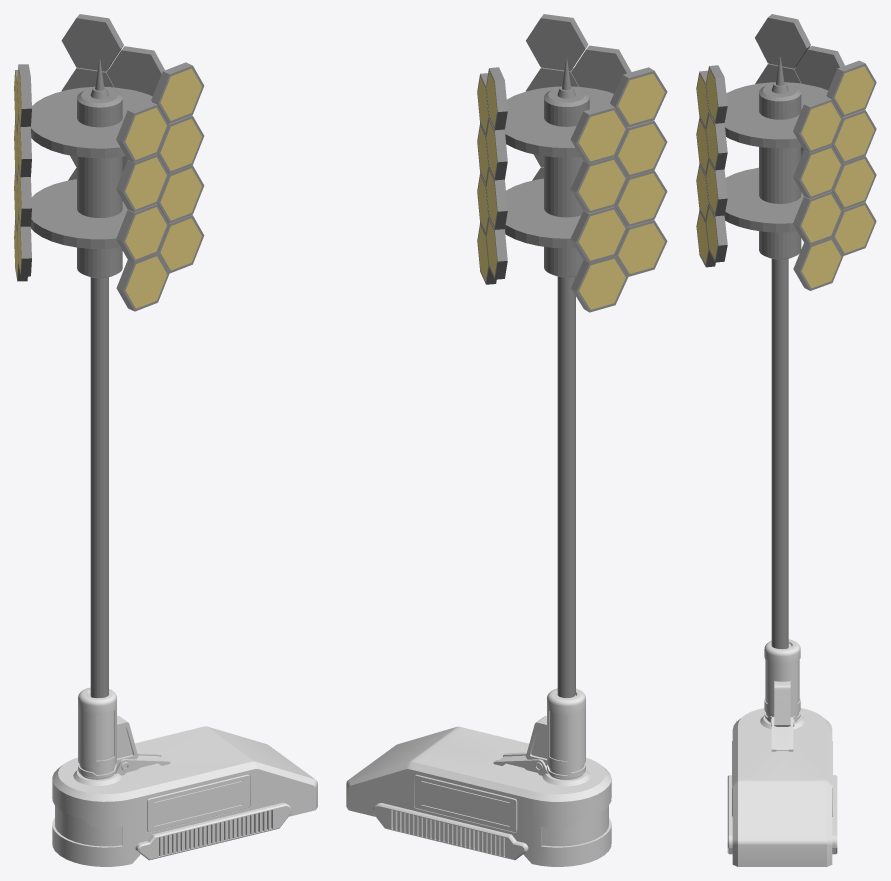
File: Vertical_Array_Base.fbx
The picture shows the model from 3 angles, left to right: view 1: azimuth 30°, elevation 25°; view 2: azimuth 150°, elevation 25°; view 3: azimuth 270°, elevation 25°; orthographic projection. The views are drawn at different scales.
Parts seen in each view (by area): view 1: Box:029_Box:032; view 2: Box:029_Box:032; view 3: Box:029_Box:032.
Part boxes in pixels (bbox=[...]): Box:029_Box:032: bbox=[14, 14, 317, 866]; Box:029_Box:032: bbox=[346, 14, 667, 866]; Box:029_Box:032: bbox=[696, 14, 876, 866].
Size of the model in its own units: 144 by 382 by 84.99.
